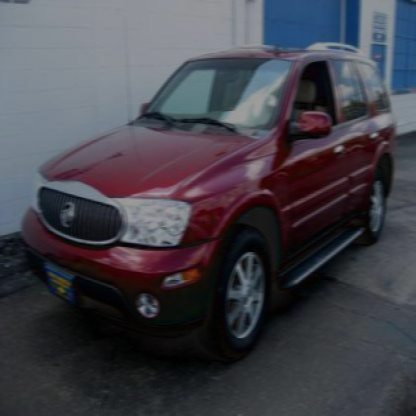Vehicle: (17, 40, 401, 367)
